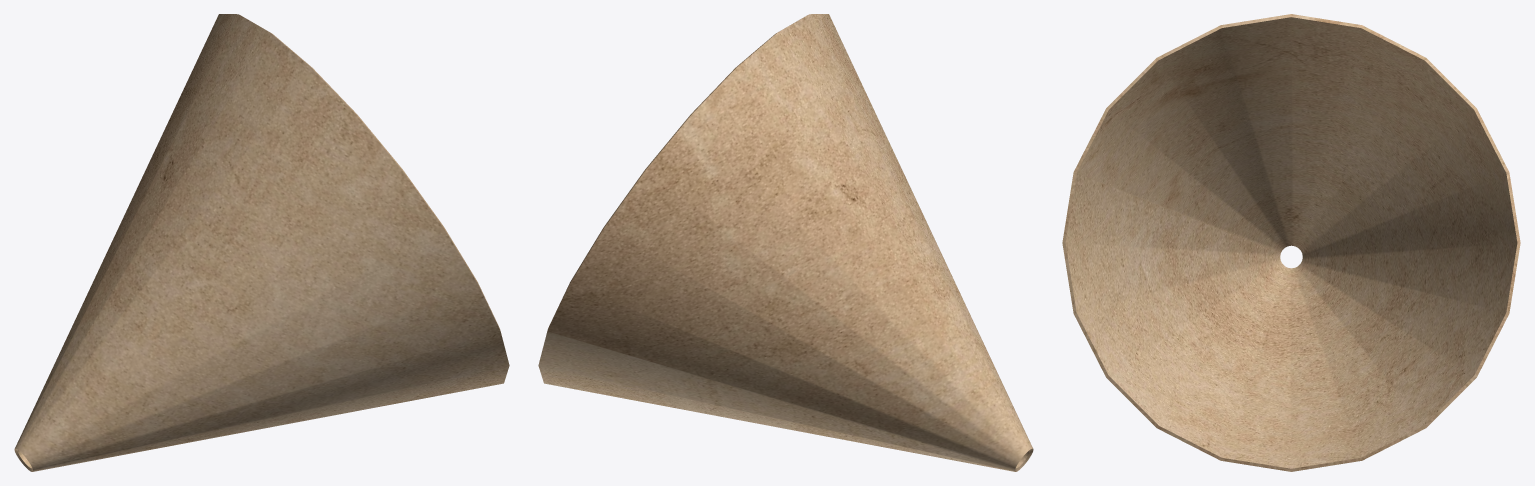
File: filter paper.fbx
The picture shows the model from 3 angles, left to right: view 1: azimuth 30°, elevation 25°; view 2: azimuth 150°, elevation 25°; view 3: azimuth 270°, elevation 25°; orthographic projection.
Parts seen in each view (by area): view 1: paper_filter; view 2: paper_filter; view 3: paper_filter.
Boxes of the visible parts, left/top/right/bottom form: paper_filter: left=14, top=14, right=509, bottom=471; paper_filter: left=538, top=14, right=1033, bottom=471; paper_filter: left=1062, top=14, right=1520, bottom=471.
Bounding box in the file's own units: 9.51 × 7.94 × 8.84.
1 material, 1 textured.
